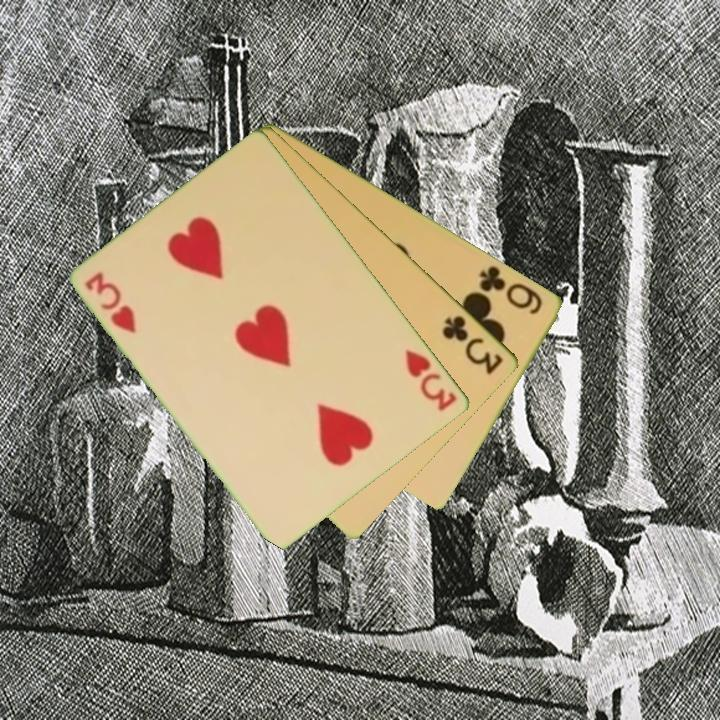3c: (439, 311, 507, 378)
3h: (402, 345, 461, 414), (82, 268, 140, 337)
6c: (476, 262, 546, 318)
